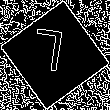L_S: (35, 27, 75, 83)
